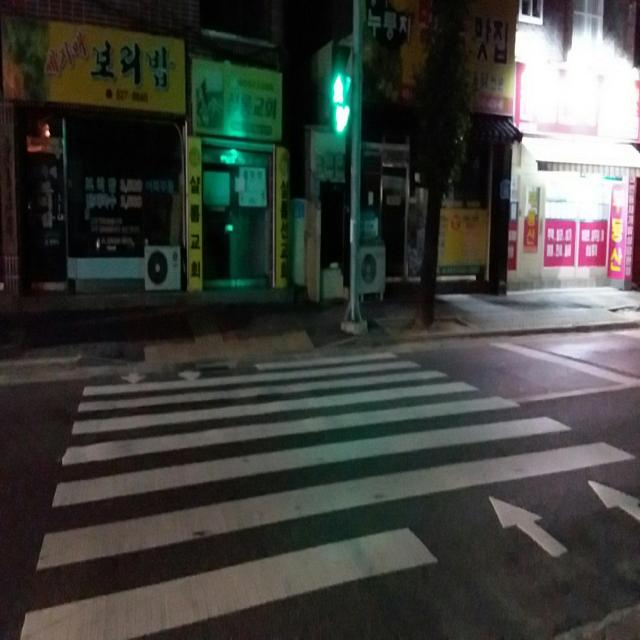횡단보도: (16, 344, 640, 640)
